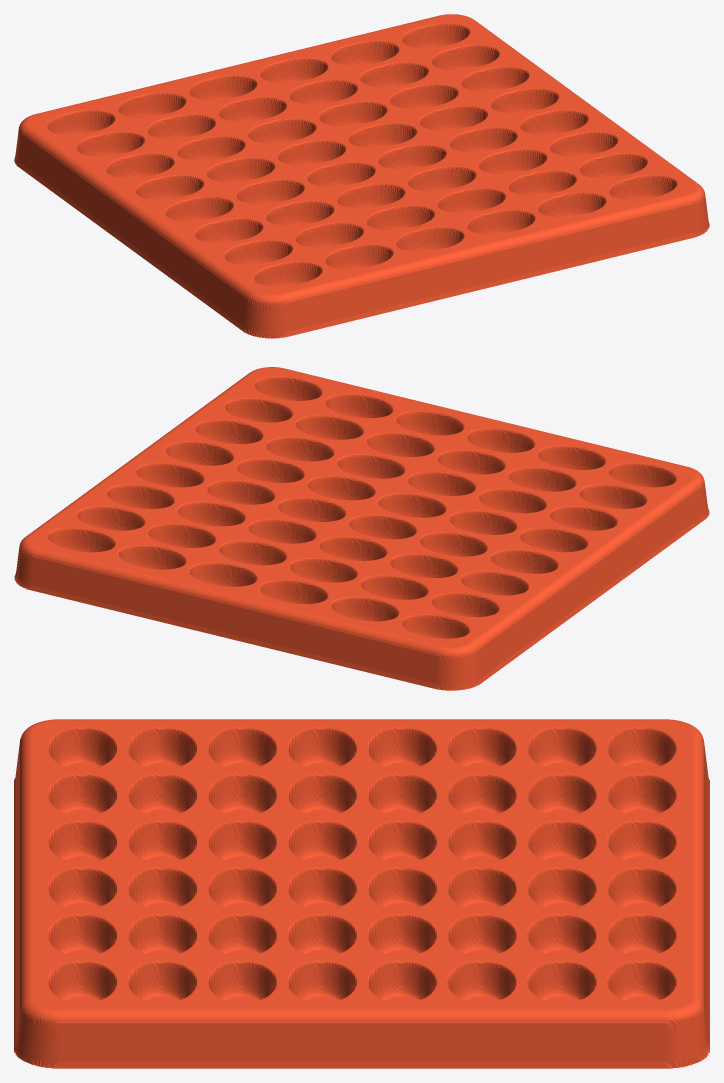
Rendered from mold.glb.
3 views of the same model, one above another, from view 1: azimuth 30°, elevation 25°; view 2: azimuth 150°, elevation 25°; view 3: azimuth 270°, elevation 25° (orthographic). The views are drawn at different scales.
Visible parts, largest first — view 1: geometry_0; view 2: geometry_0; view 3: geometry_0.
Part boxes in pixels (box(x1,y1,x2,y2)): geometry_0: box(14, 14, 709, 338); geometry_0: box(14, 367, 709, 690); geometry_0: box(14, 719, 709, 1068).
Size of the model in its own units: 0.1443 by 0.0114 by 0.1394.
